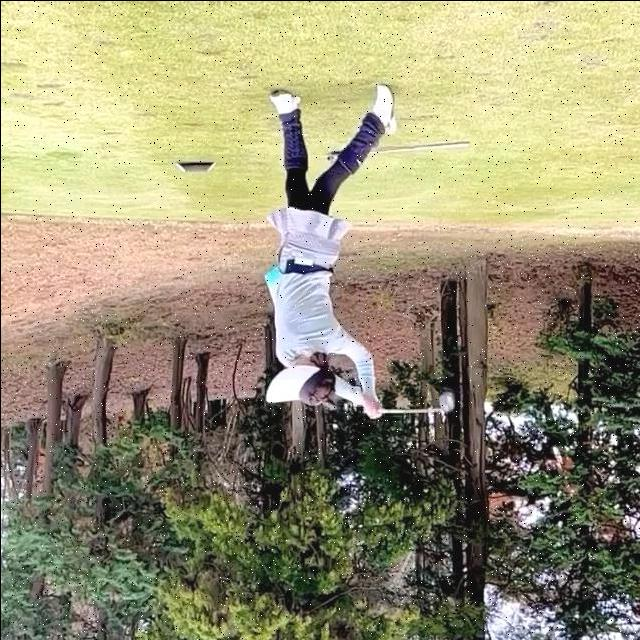golf club-handle: (361, 387, 454, 412)
golf club-head: (438, 387, 454, 411)
